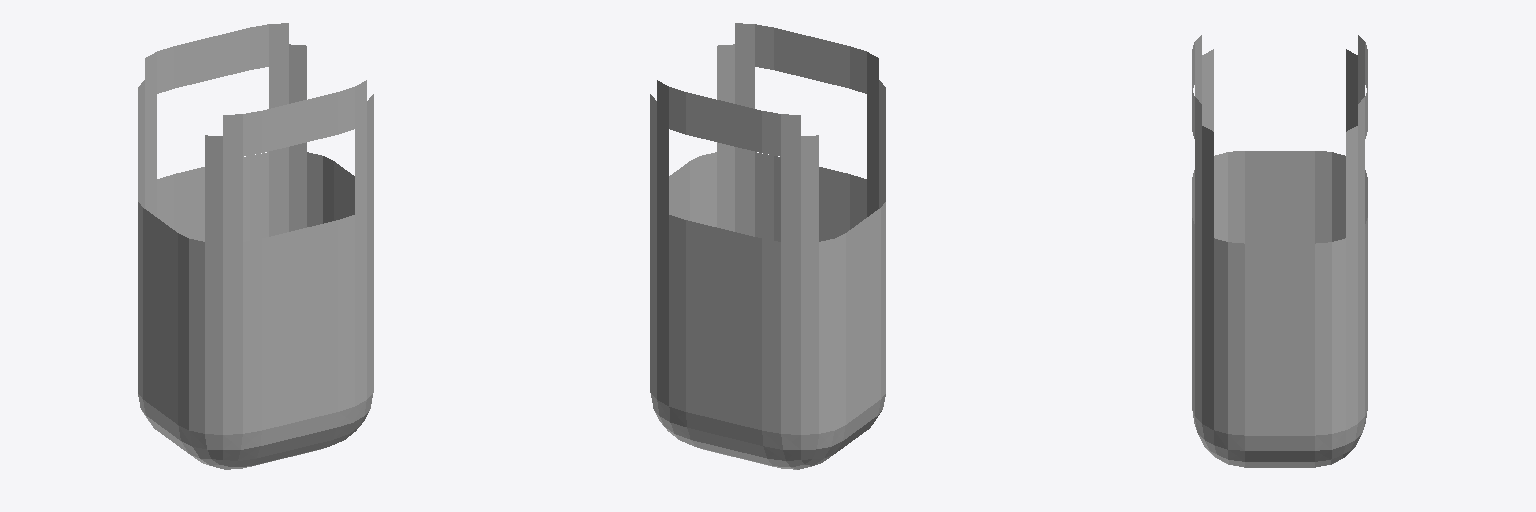
Rendered from bag2_35.obj.
3 renders of one model, left to right at view 1: azimuth 30°, elevation 25°; view 2: azimuth 150°, elevation 25°; view 3: azimuth 270°, elevation 25°, orthographic.
Visible parts, largest first — view 1: Cube-0-1.052_Cube.167; view 2: Cube-0-1.052_Cube.167; view 3: Cube-0-1.052_Cube.167.
Part boxes in pixels (bbox=[...]): Cube-0-1.052_Cube.167: bbox=[138, 23, 373, 469]; Cube-0-1.052_Cube.167: bbox=[650, 23, 885, 469]; Cube-0-1.052_Cube.167: bbox=[1192, 35, 1367, 467].
Size of the model in its own units: 2 by 3.75 by 1.6.